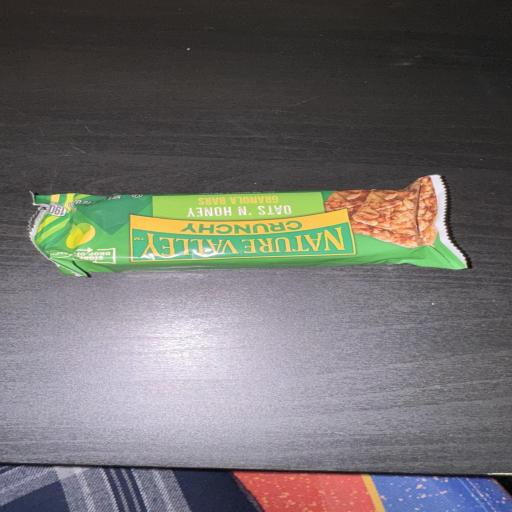granola: (31, 175, 466, 275)
